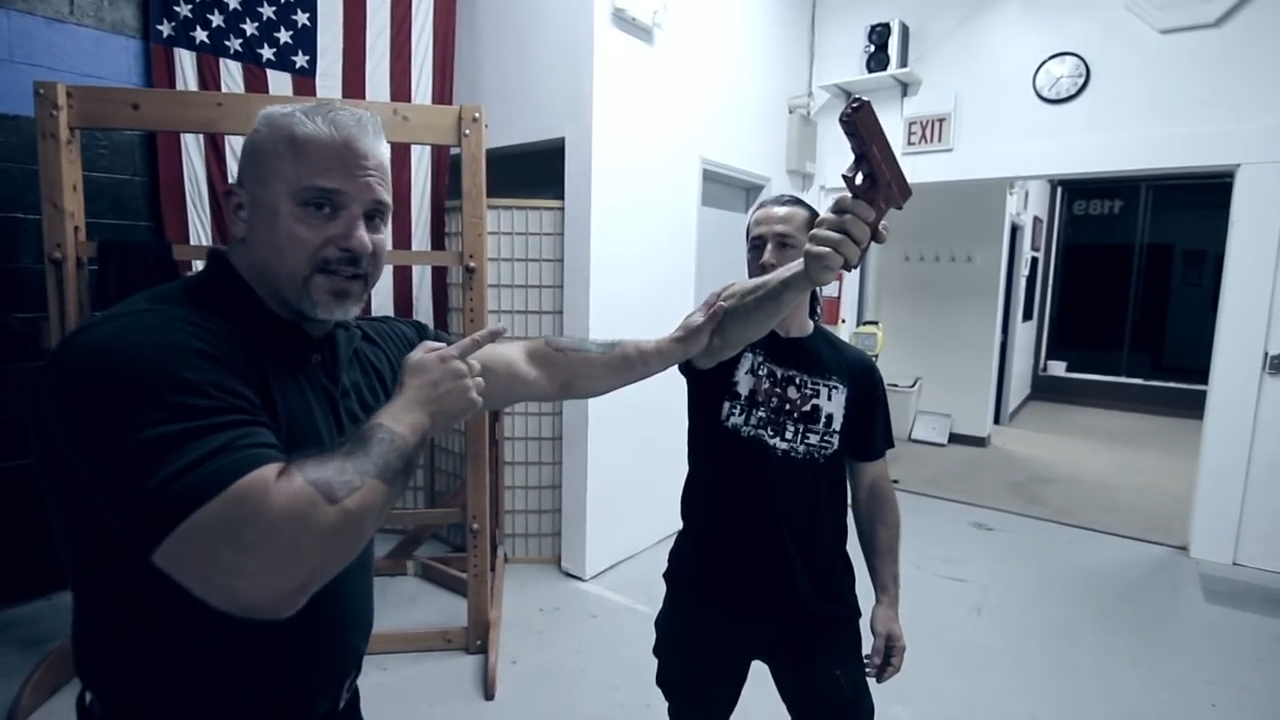pistol: (838, 93, 914, 274)
